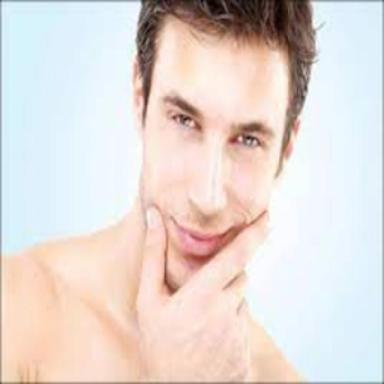normal skin: (2, 17, 296, 382)
